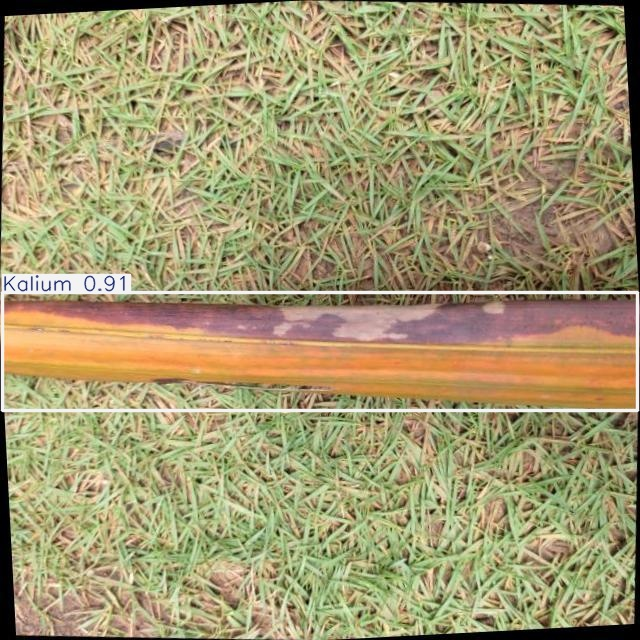Kalium: (3, 293, 638, 411)
